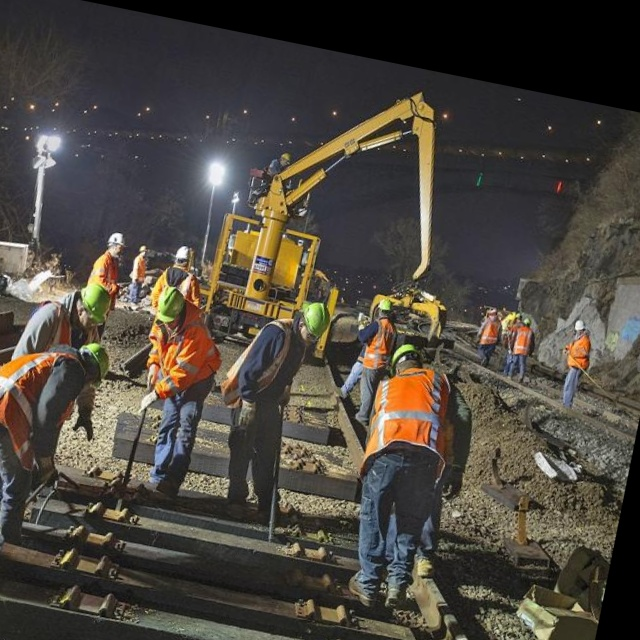Con_Casco: (291, 297, 334, 351), (152, 284, 186, 332)
Con_Chaleco: (0, 334, 87, 482), (358, 361, 457, 488)
